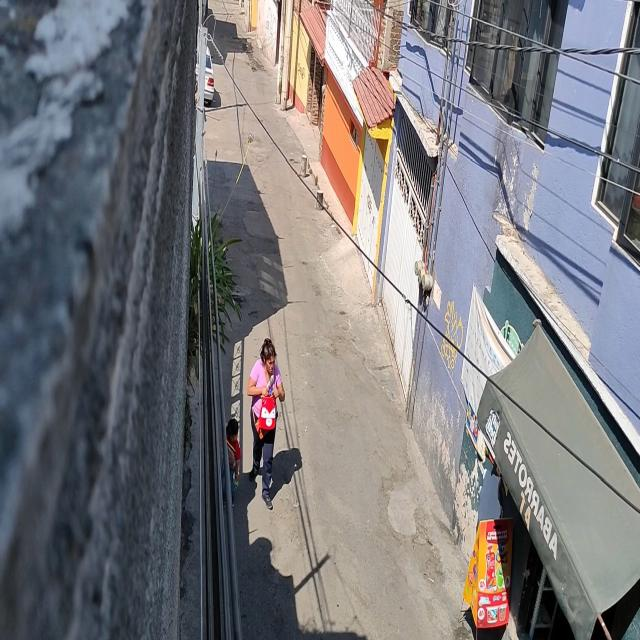adult: (247, 335, 286, 512)
child: (219, 418, 240, 508)
